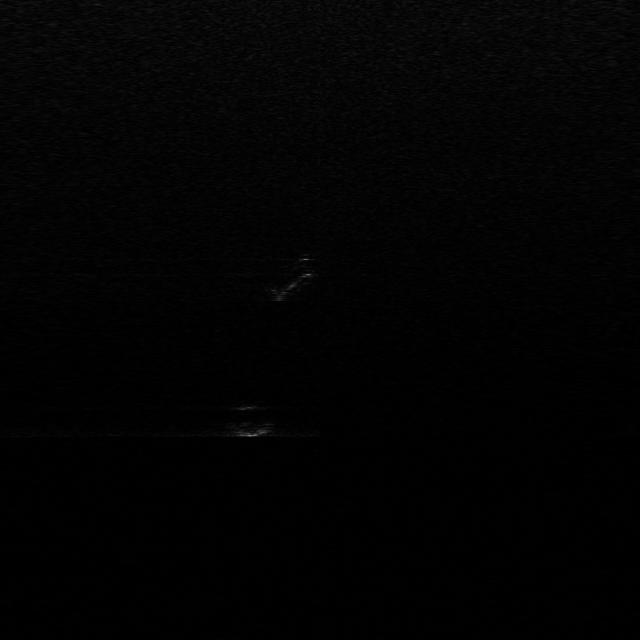ball: (226, 402, 276, 436)
tyre: (259, 258, 317, 302)
